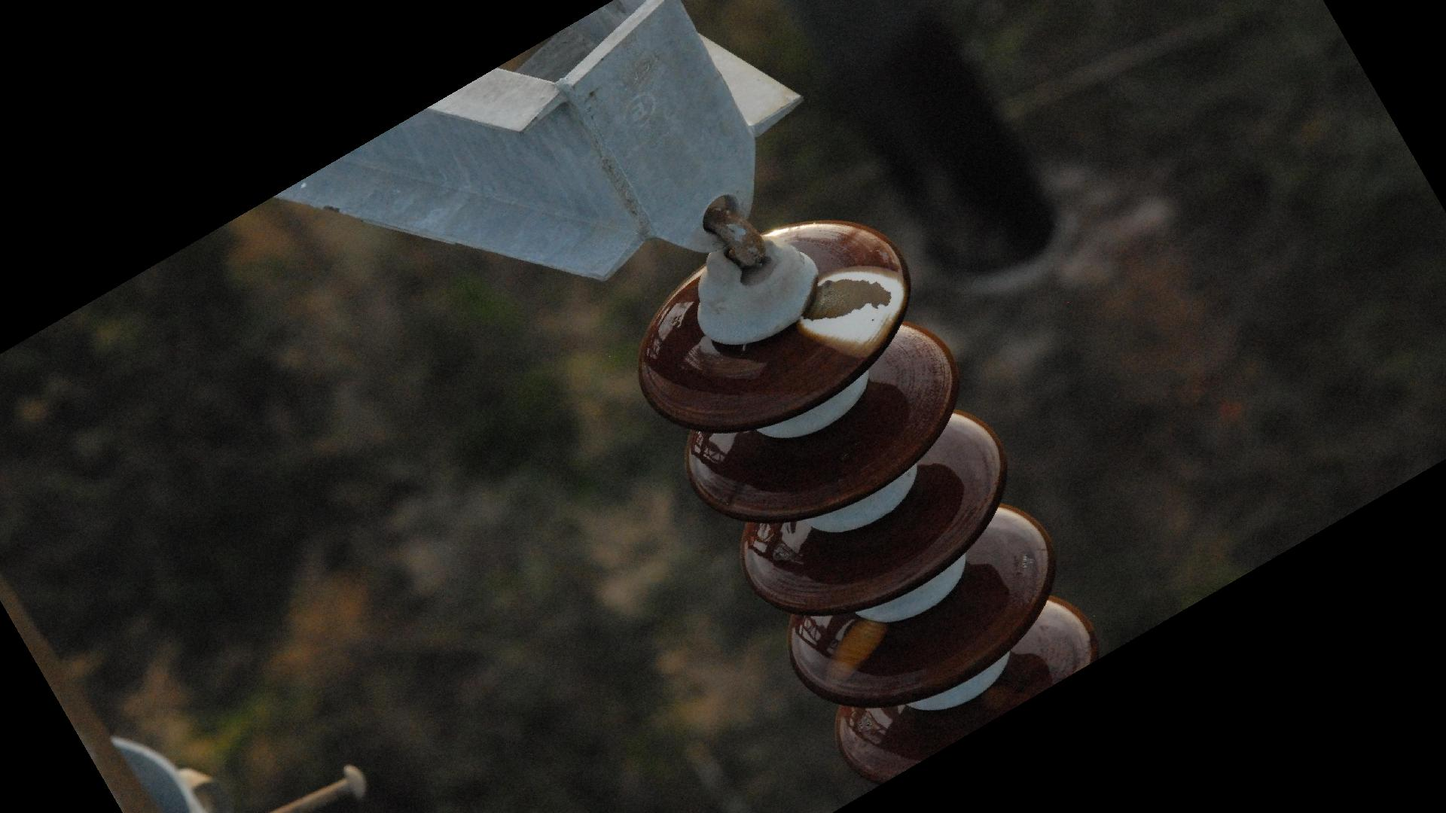insulator: (636, 211, 1108, 787)
insulator_flashover: (796, 261, 907, 352), (815, 617, 885, 693)
